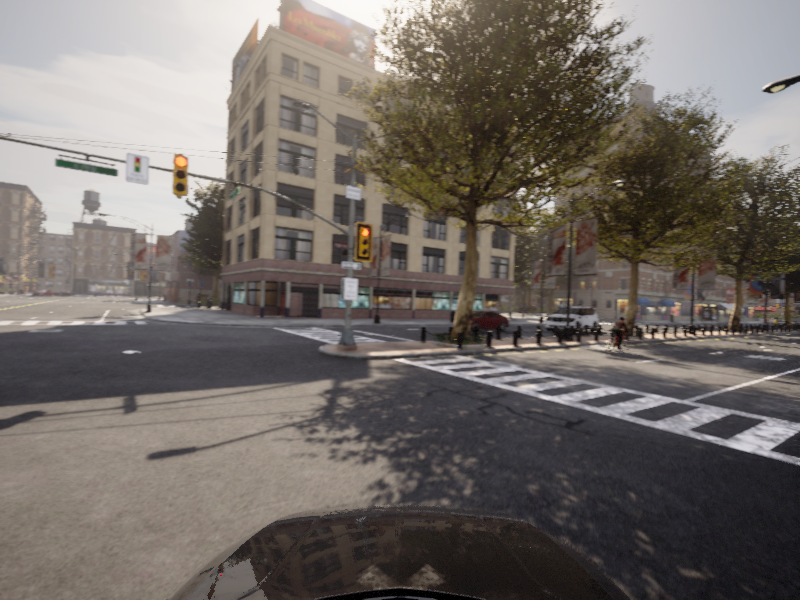vehicle: (541, 304, 602, 335), (448, 309, 513, 332), (602, 316, 636, 355)
